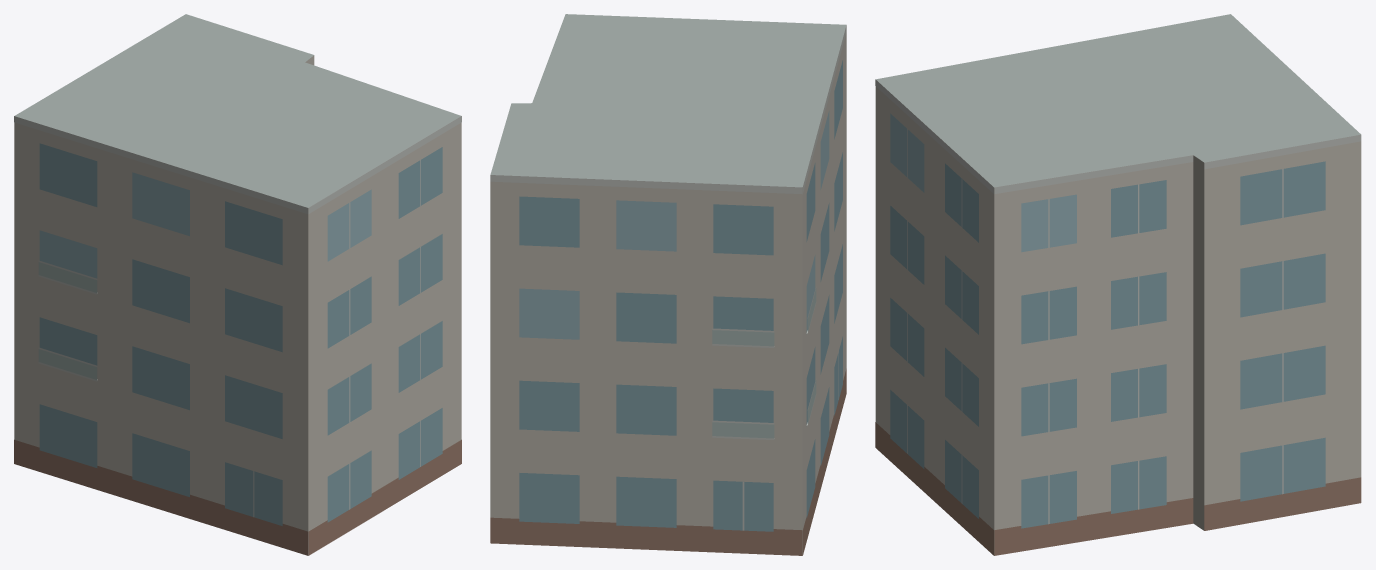
The model's file is survey-upis-32881066.glb.
3 renders of one model, left to right at view 1: azimuth 30°, elevation 25°; view 2: azimuth 150°, elevation 25°; view 3: azimuth 270°, elevation 25°, orthographic. The views are drawn at different scales.
Parts seen in each view (by area): view 1: survey-upis-32881066.tmp; view 2: survey-upis-32881066.tmp; view 3: survey-upis-32881066.tmp.
Part boxes in pixels (left/top/right/bottom): survey-upis-32881066.tmp: left=14, top=14, right=461, bottom=555; survey-upis-32881066.tmp: left=490, top=14, right=846, bottom=555; survey-upis-32881066.tmp: left=875, top=14, right=1361, bottom=555.
Bounding box in the file's own units: 13.47 × 13.33 × 15.94.
